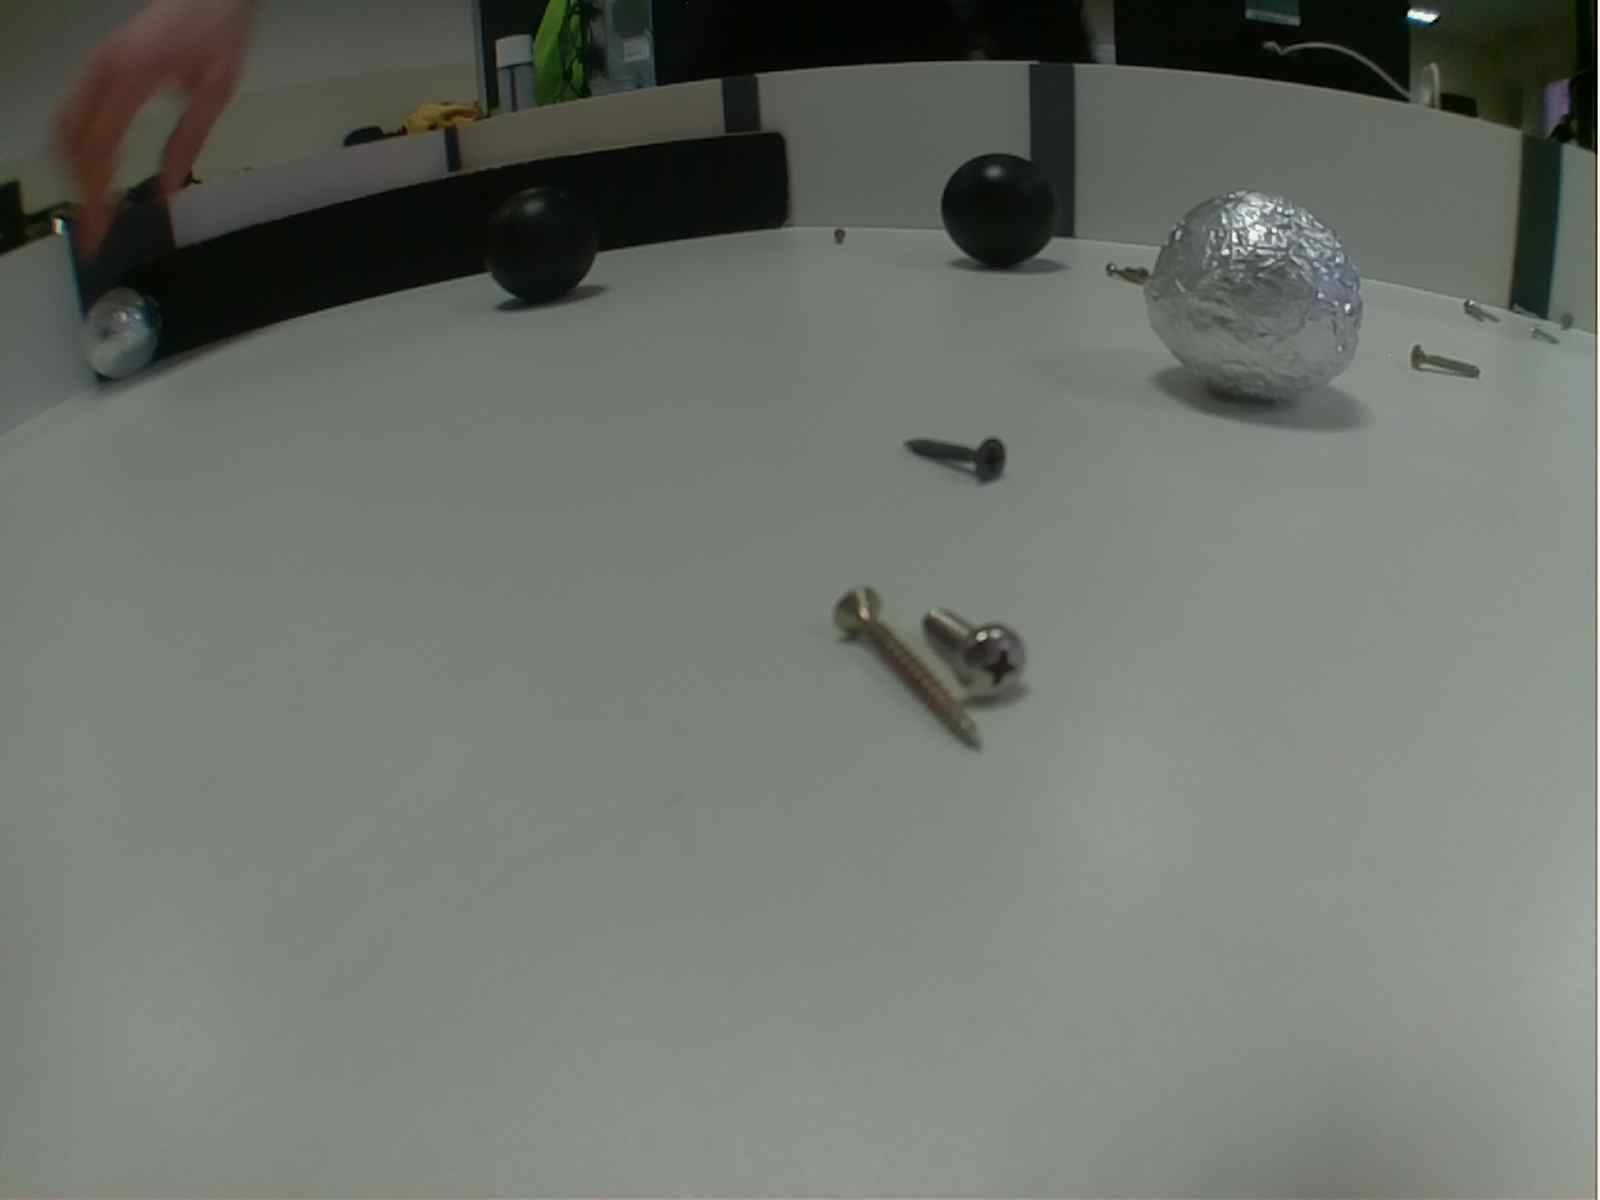bianca: (1141, 185, 1371, 412), (77, 292, 155, 382)
nera: (939, 151, 1066, 274), (483, 182, 600, 304)
